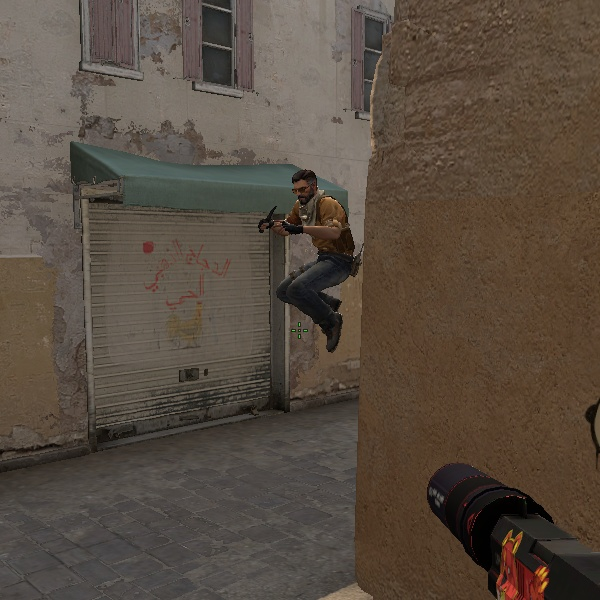t_body: (253, 161, 359, 369)
t_head: (283, 166, 327, 209)
